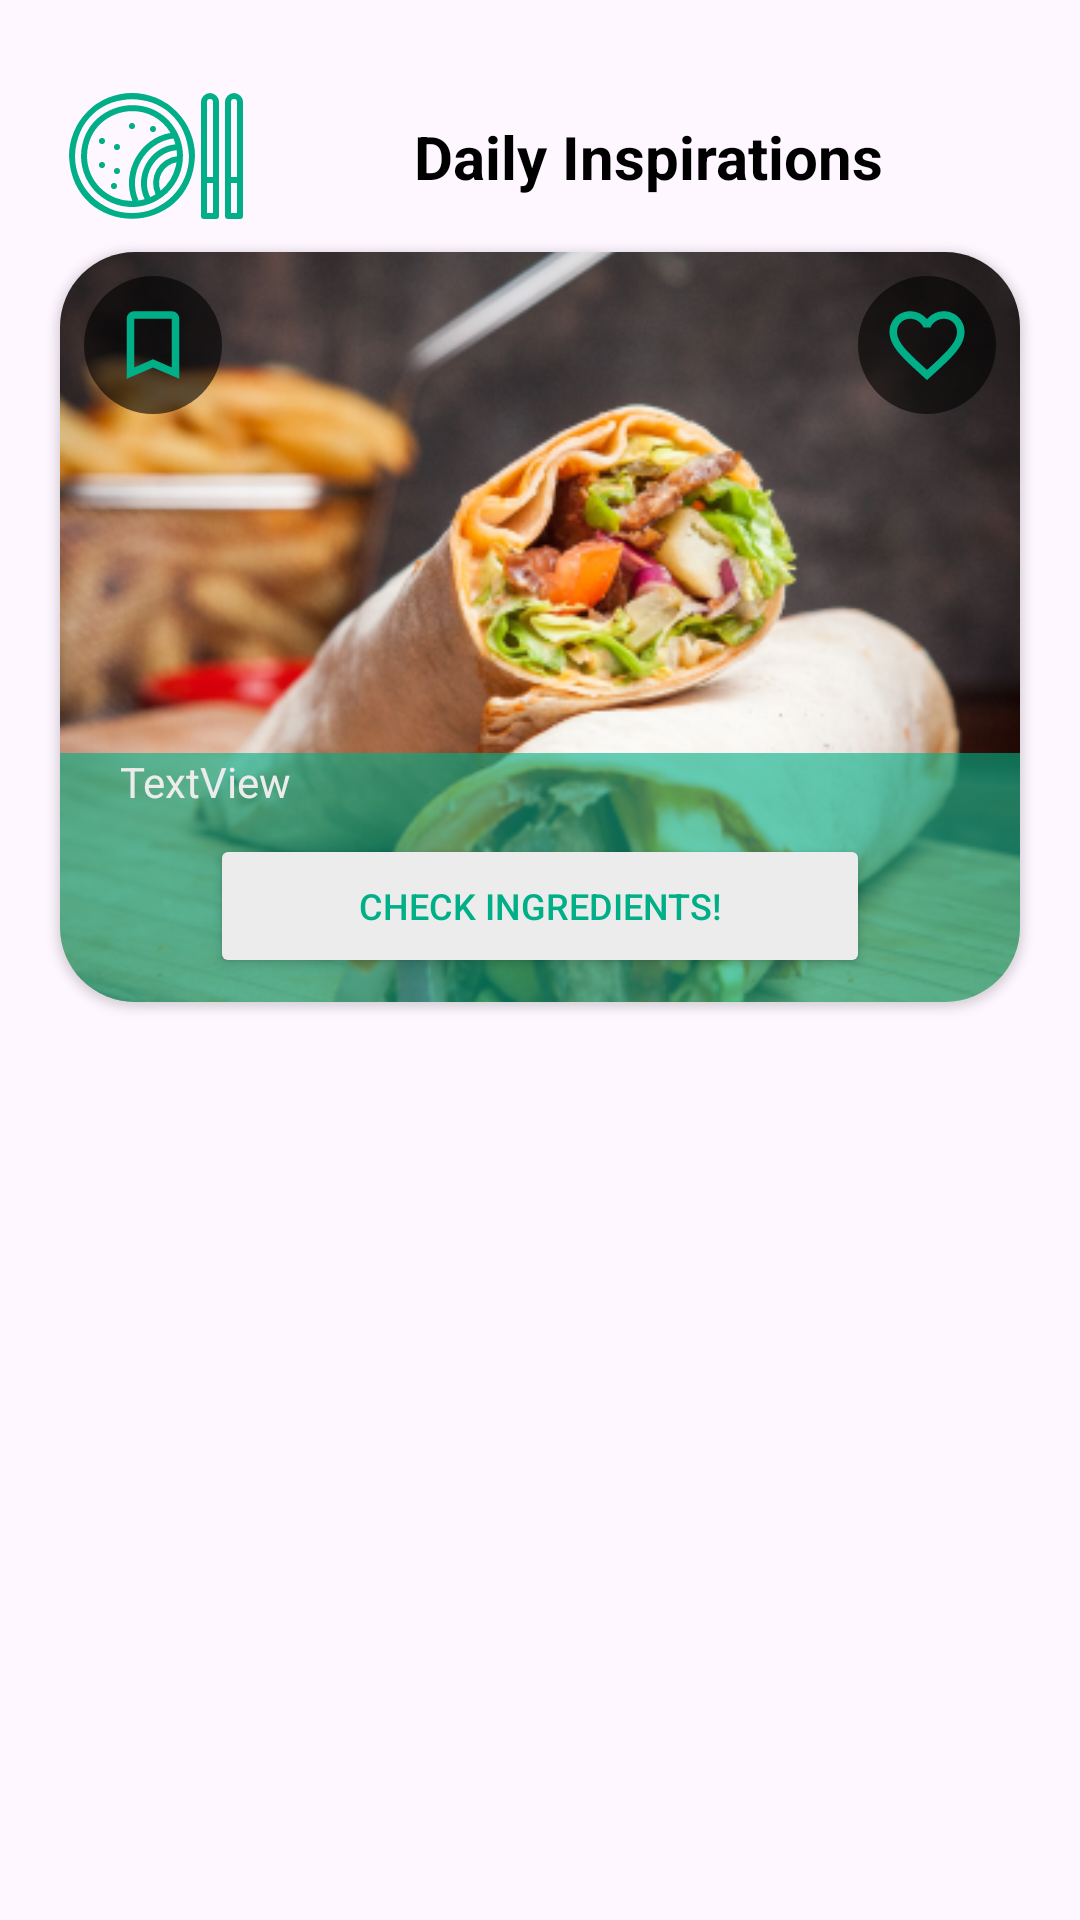

Icons on this 1080w x 1920h Android screen, each with its box as (x1, y1, x2, y2):
bookmark: (84, 276, 222, 414)
favorite: (858, 276, 996, 414)
